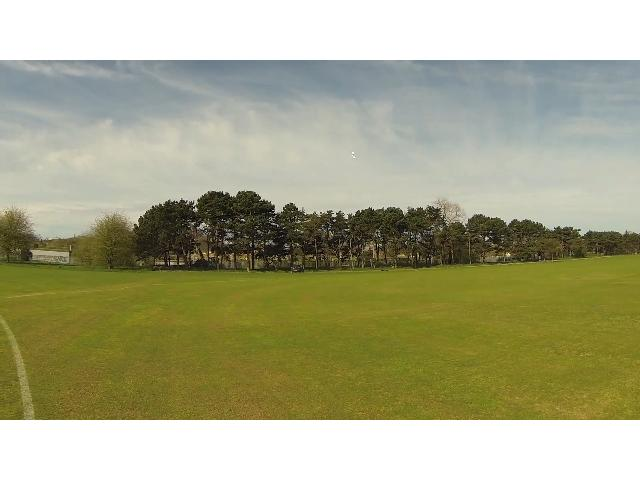Anti-Drone: (350, 145, 362, 166)
